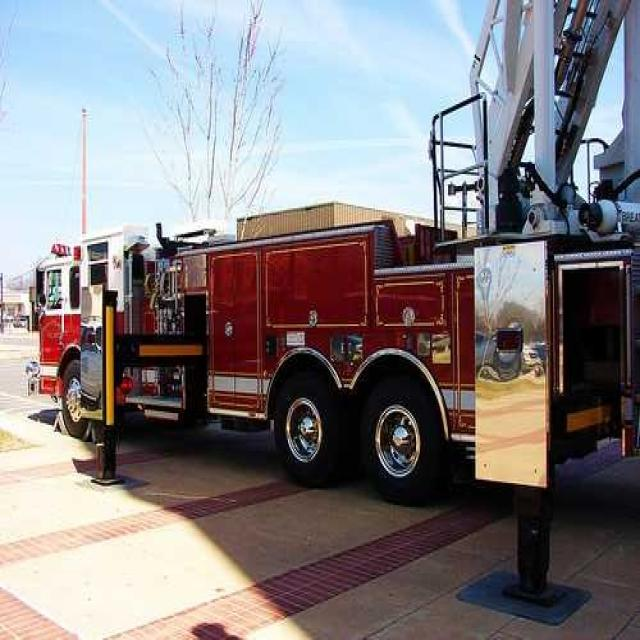ambulance: (39, 219, 640, 485)
